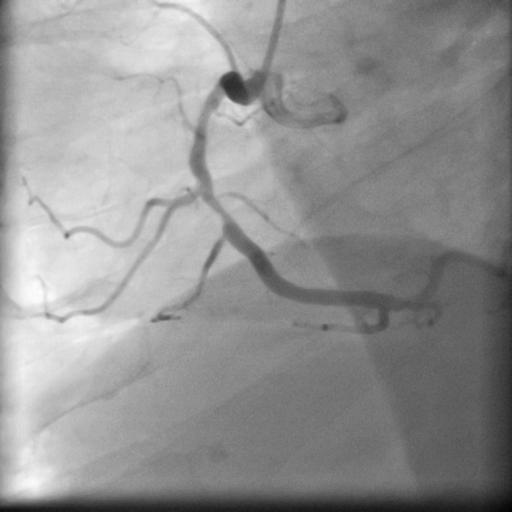Stenosis: (200, 187, 231, 230)
